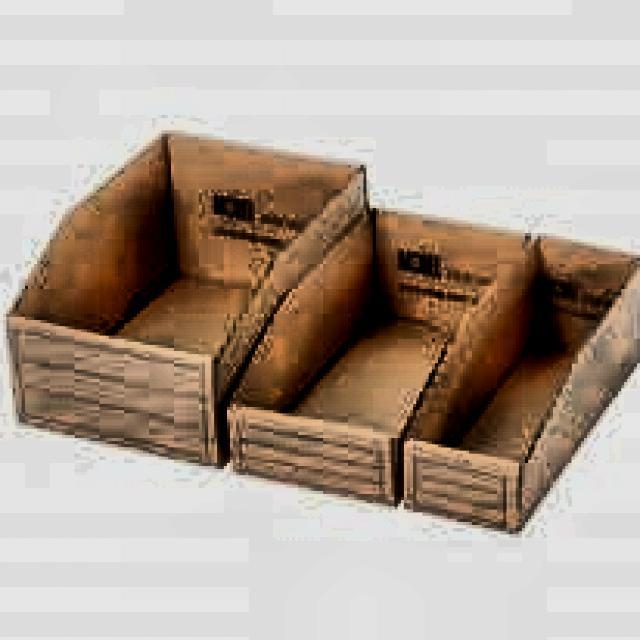cardboard: (3, 128, 640, 534)
